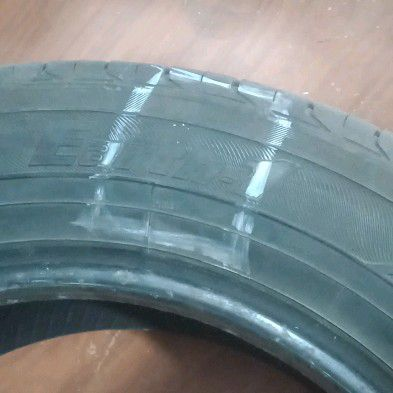CBU: (103, 135, 247, 250)
